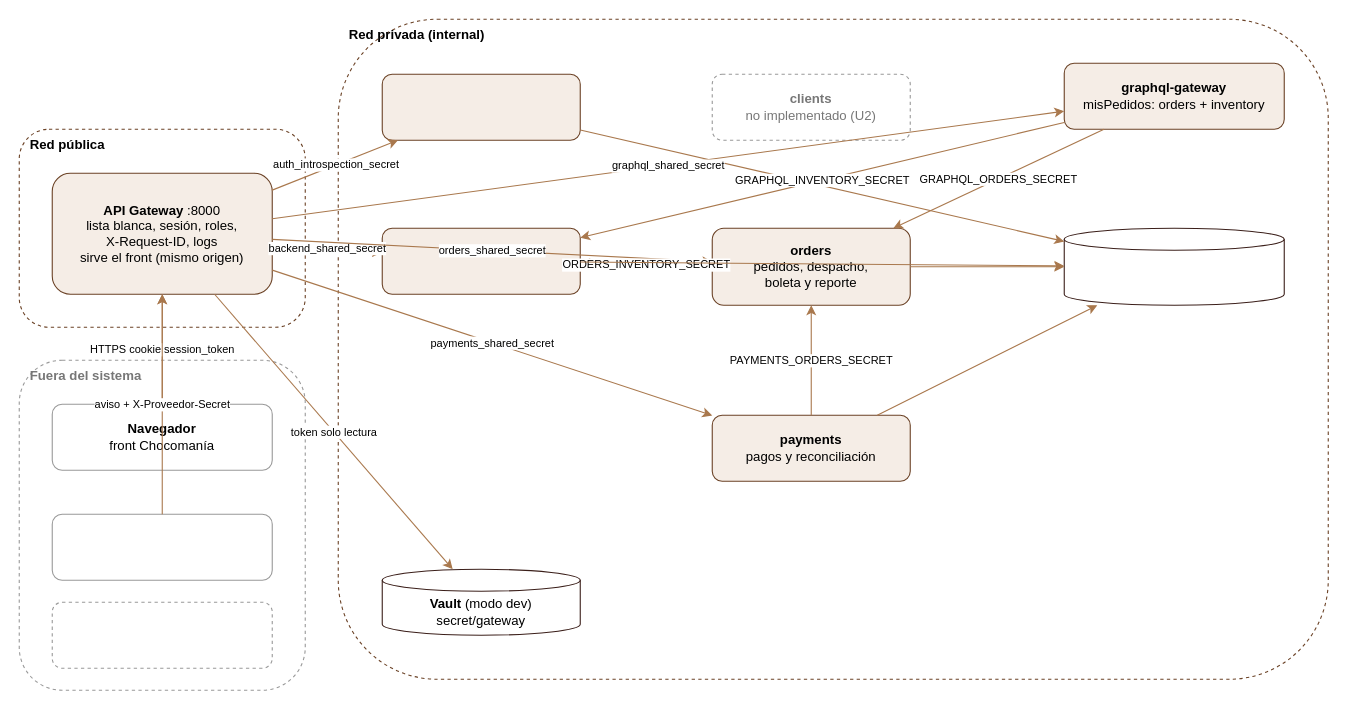
This 1348x710 diagram has some shape labels left out. Each missing label, with the centre of its shape:
"API de mensajería no existe (brecha)" belongs at (161,634).
"auth usuarios y sesiones" belongs at (480,106).
"inventory catálogo y stock" belongs at (480,260).
"MongoDB bases auth, inventory, orders, payments" belongs at (1173,266).
"Proveedor de pagos simulado (doble de prueba)" belongs at (161,546).
